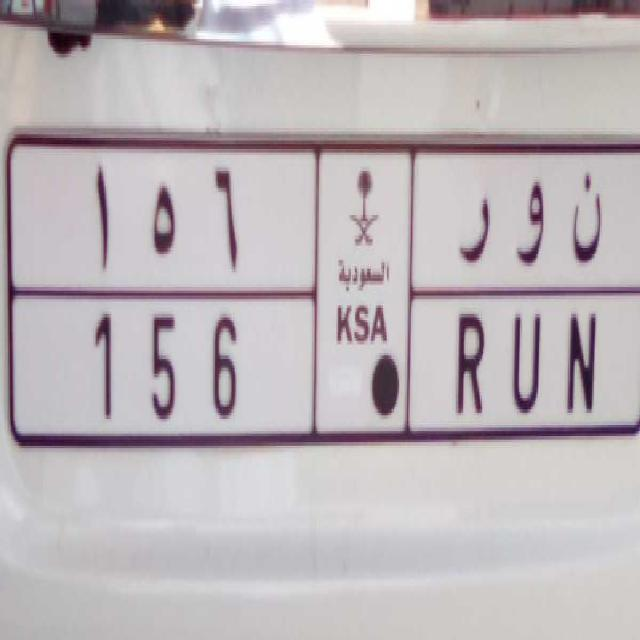license_plate: (89, 295, 602, 436)
